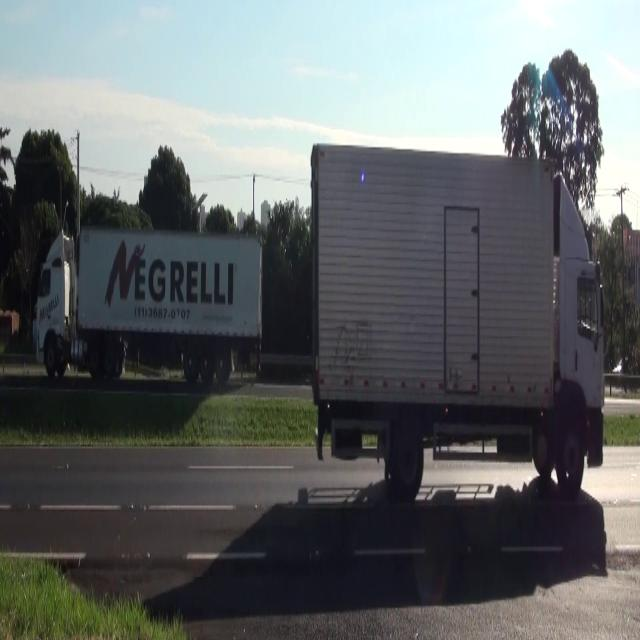-axle: (395, 416, 424, 496), (558, 412, 584, 495)
